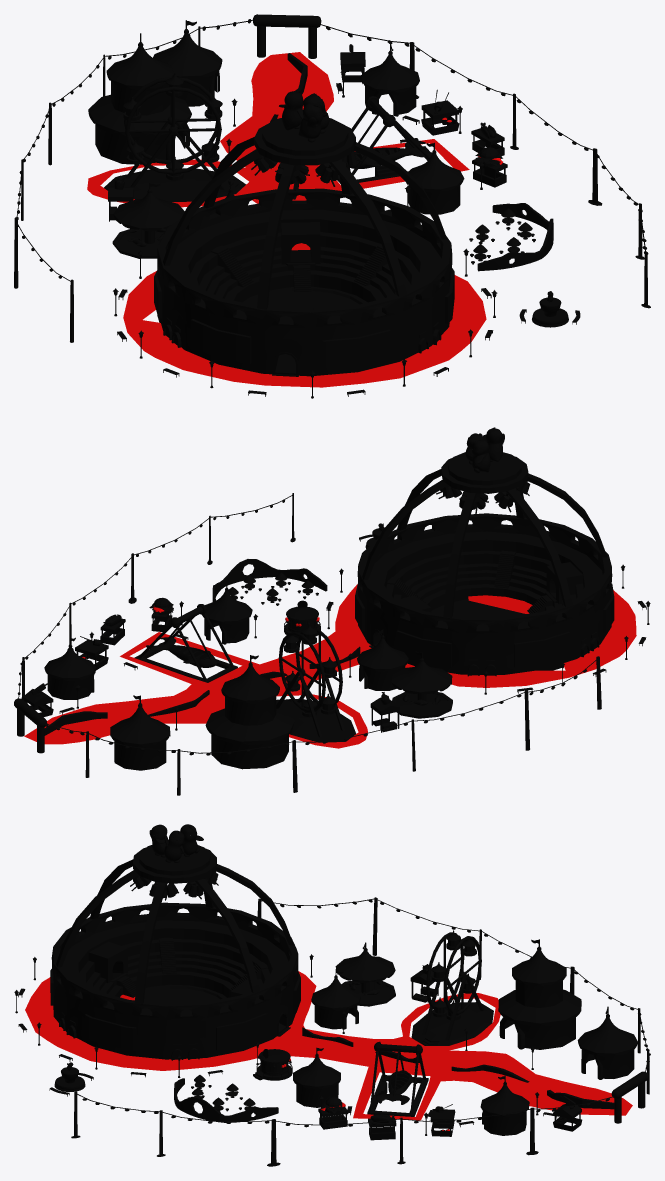
Rendered from Neighborhood_JamboreeSquare_Locked_03.glb.
3 views of the same model, one above another, from view 1: azimuth 30°, elevation 25°; view 2: azimuth 150°, elevation 25°; view 3: azimuth 270°, elevation 25° (orthographic). The views are drawn at different scales.
Parts seen in each view (by area): view 1: Neighobrhood_JamboreeSquare_04_pasted__JamboreeNew_pasted__N; view 2: Neighobrhood_JamboreeSquare_04_pasted__JamboreeNew_pasted__N; view 3: Neighobrhood_JamboreeSquare_04_pasted__JamboreeNew_pasted__N.
Boxes of the visible parts, x1=… form: Neighobrhood_JamboreeSquare_04_pasted__JamboreeNew_pasted__N: x1=14, y1=14, x2=650, y2=398; Neighobrhood_JamboreeSquare_04_pasted__JamboreeNew_pasted__N: x1=14, y1=427, x2=650, y2=795; Neighobrhood_JamboreeSquare_04_pasted__JamboreeNew_pasted__N: x1=14, y1=824, x2=650, y2=1166.
Bounding box in the file's own units: 38.43 × 16.14 × 47.07.
